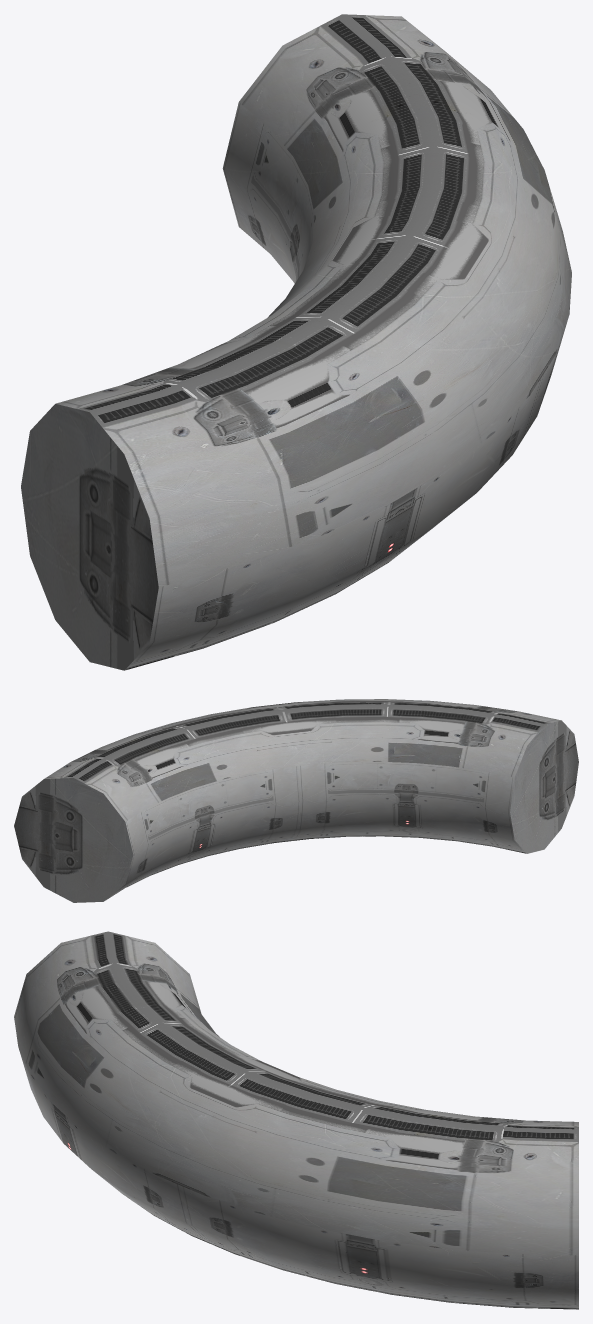
File: SM_Pipe3c.fbx
The picture shows the model from 3 angles, top to bottom: view 1: azimuth 30°, elevation 25°; view 2: azimuth 150°, elevation 25°; view 3: azimuth 270°, elevation 25°; orthographic projection. The views are drawn at different scales.
Visible parts, largest first — view 1: SM_Pipe3c_LOD0; view 2: SM_Pipe3c_LOD0; view 3: SM_Pipe3c_LOD0.
Part boxes in pixels (x1,y1,x2,y2): SM_Pipe3c_LOD0: (21, 14, 571, 670); SM_Pipe3c_LOD0: (14, 699, 578, 902); SM_Pipe3c_LOD0: (14, 931, 578, 1309).
Bounding box in the file's own units: 120 × 120 × 40.
